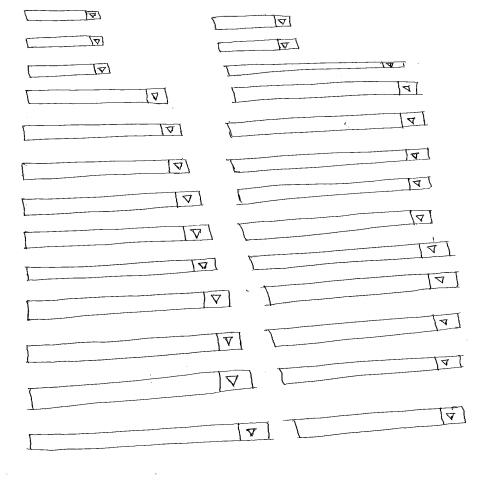Select: (28, 368, 253, 410), (28, 420, 270, 451), (264, 270, 459, 306), (24, 331, 241, 363), (264, 312, 461, 346), (25, 289, 232, 321), (236, 209, 434, 242), (248, 240, 450, 271), (278, 354, 461, 386), (236, 176, 431, 206), (292, 406, 467, 439), (226, 147, 430, 174), (225, 110, 426, 137), (21, 189, 202, 217), (22, 224, 214, 250), (24, 257, 217, 281), (230, 80, 418, 104), (20, 158, 191, 182), (223, 60, 406, 77), (20, 122, 182, 141), (24, 87, 169, 105), (26, 62, 111, 78), (209, 14, 291, 30), (217, 38, 299, 53), (22, 8, 102, 22), (24, 35, 104, 48)
